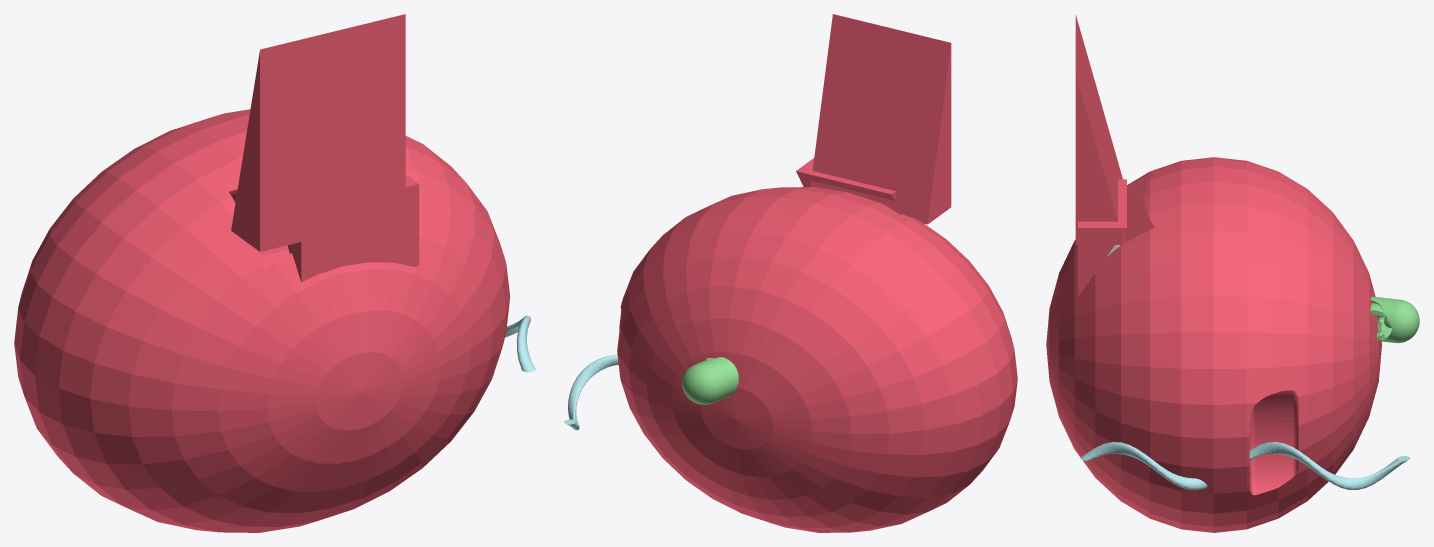
Rendered from asset10.glb.
The picture shows the model from 3 angles, left to right: view 1: azimuth 30°, elevation 25°; view 2: azimuth 150°, elevation 25°; view 3: azimuth 270°, elevation 25°; orthographic projection. The views are drawn at different scales.
Parts seen in each view (by area): view 1: obj_0; view 2: obj_0; view 3: obj_0.
Boxes of the visible parts, left/top/right/bottom form: obj_0: left=14, top=14, right=535, bottom=532; obj_0: left=564, top=14, right=1017, bottom=532; obj_0: left=1046, top=15, right=1419, bottom=532.
Size of the model in its own units: 142 by 160 by 117.
